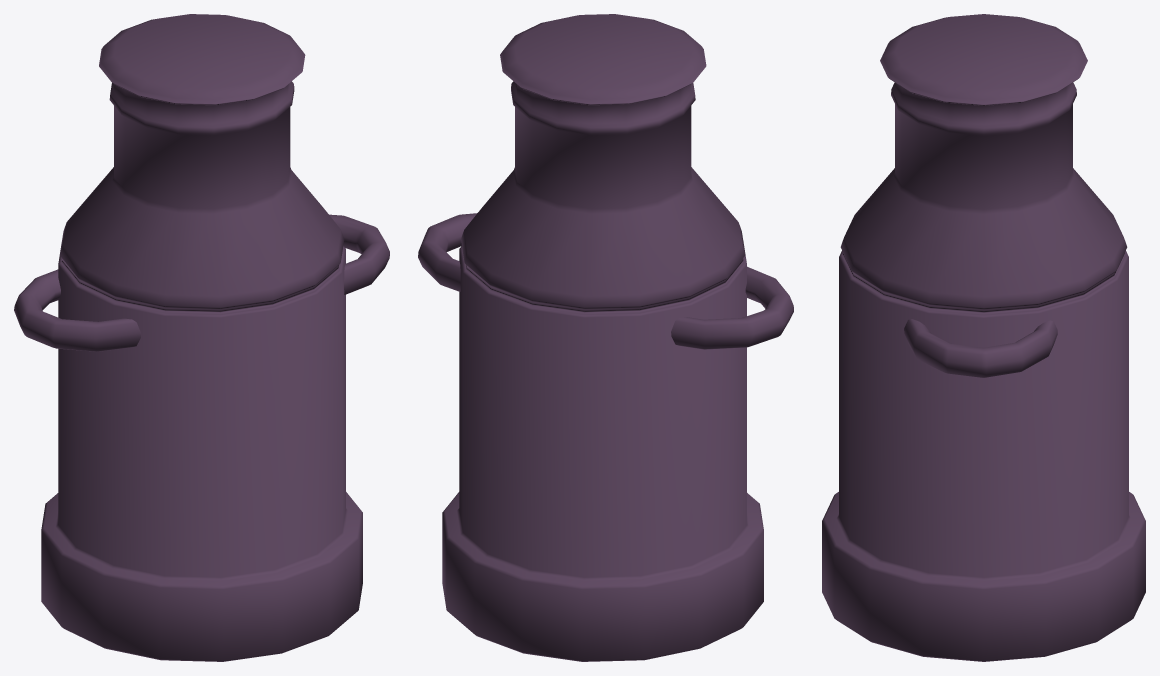
File: Milkcan.fbx
3 views of the same model, side by side, from view 1: azimuth 30°, elevation 25°; view 2: azimuth 150°, elevation 25°; view 3: azimuth 270°, elevation 25° (orthographic).
Parts seen in each view (by area): view 1: Milkcan; view 2: Milkcan; view 3: Milkcan.
Boxes of the visible parts, x1=… form: Milkcan: x1=14, y1=14, x2=389, y2=661; Milkcan: x1=418, y1=14, x2=793, y2=661; Milkcan: x1=822, y1=14, x2=1145, y2=661.
Size of the model in its own units: 44.02 by 63.8 by 34.49.
